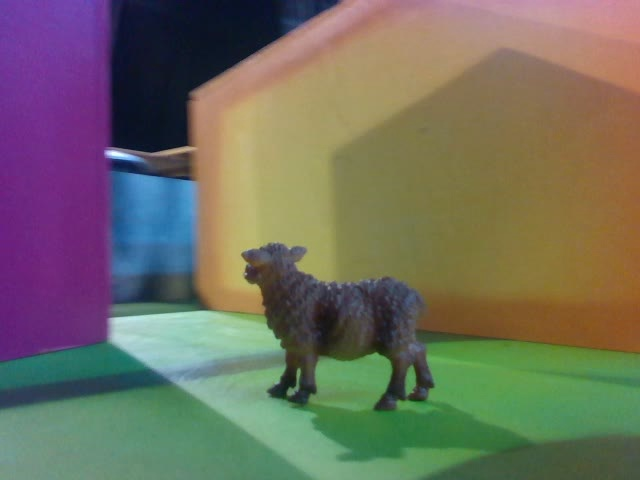toy: (241, 242, 434, 412)
